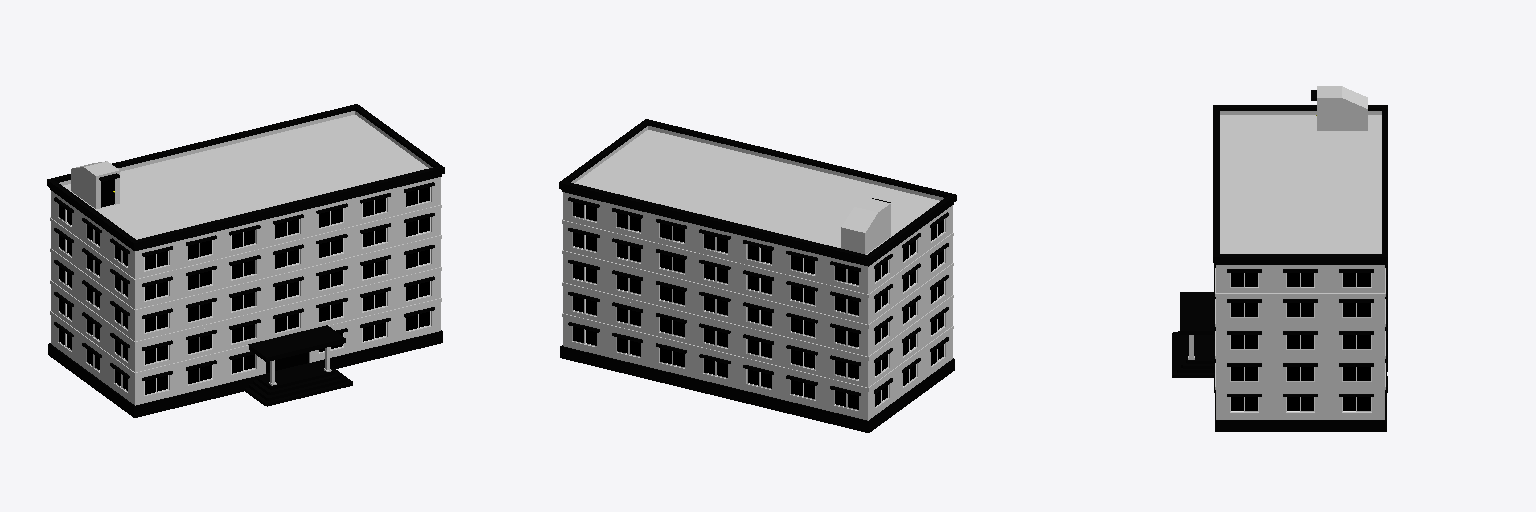
File: ciudad_edificio.obj
3 views of the same model, side by side, from view 1: azimuth 30°, elevation 25°; view 2: azimuth 150°, elevation 25°; view 3: azimuth 270°, elevation 25° (orthographic).
Visible parts, largest first — view 1: Rv_Building_3:GroundBuilding_grp7; view 2: Rv_Building_3:GroundBuilding_grp7; view 3: Rv_Building_3:GroundBuilding_grp7.
Boxes of the visible parts, box(x1,y1,x2,y2) form: Rv_Building_3:GroundBuilding_grp7: box(47, 104, 444, 417); Rv_Building_3:GroundBuilding_grp7: box(559, 119, 956, 432); Rv_Building_3:GroundBuilding_grp7: box(1172, 86, 1387, 431).
Bounding box in the file's own units: 39.27 × 24.31 × 23.63.